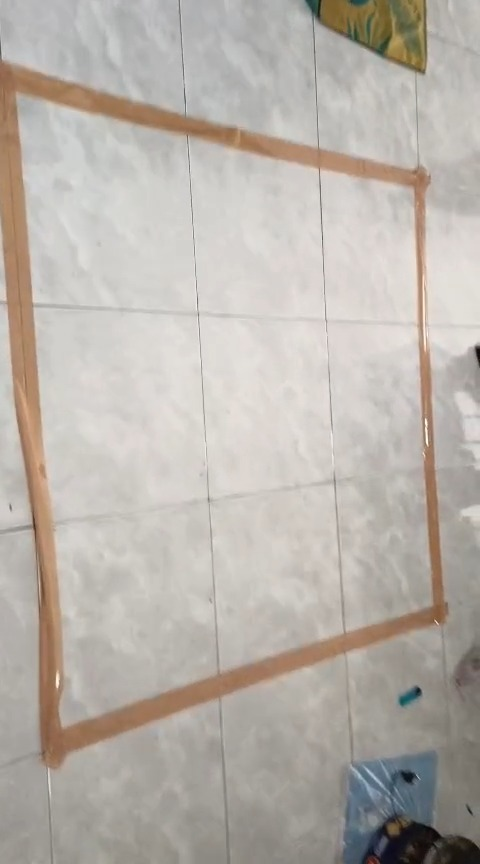floor marking: (0, 61, 446, 766)
